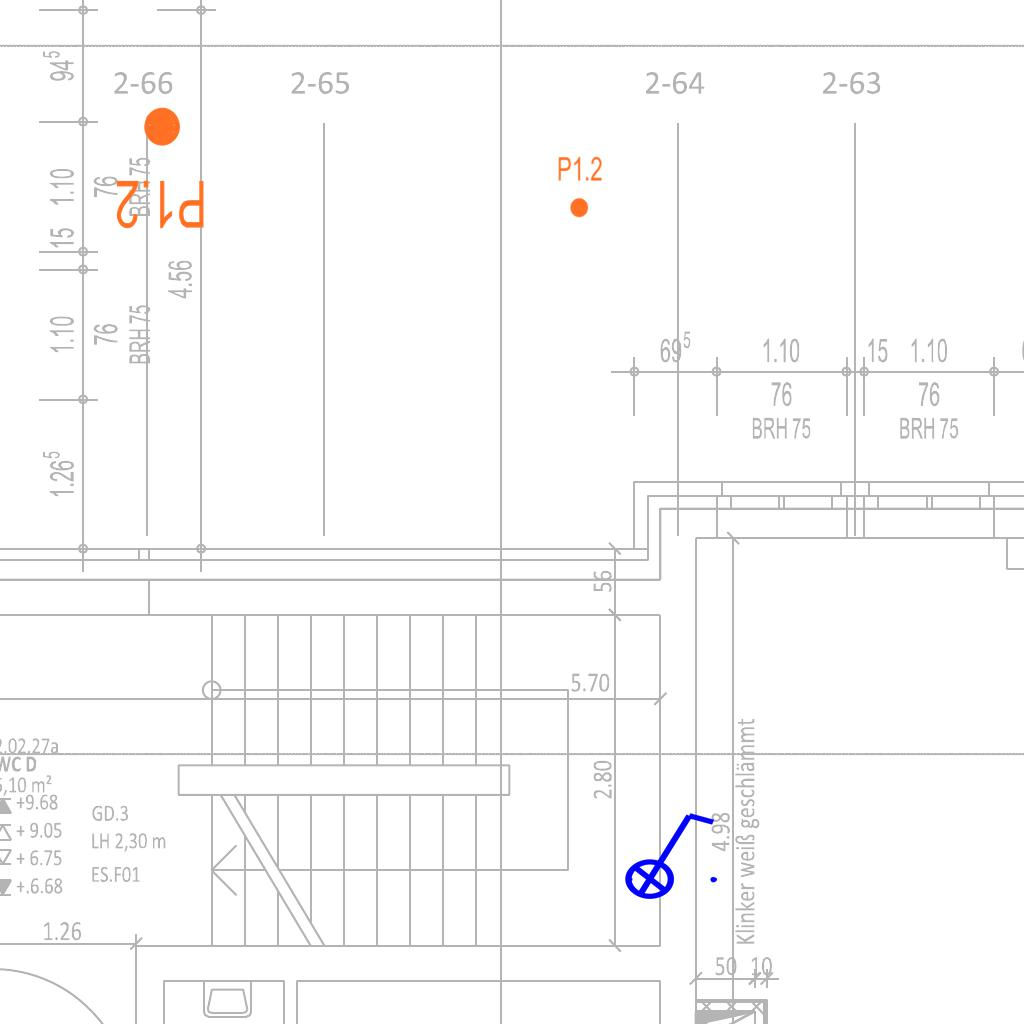Ausschalter_beleuchtet: (611, 805, 723, 901)
Downlight_LED_Einbauleuchten_Flur: (114, 104, 207, 232), (557, 155, 603, 219)
